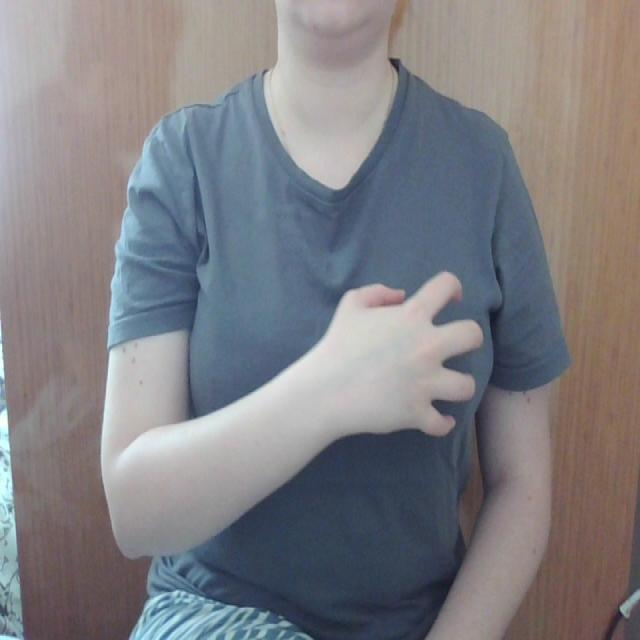Anne: (186, 267, 530, 451)
